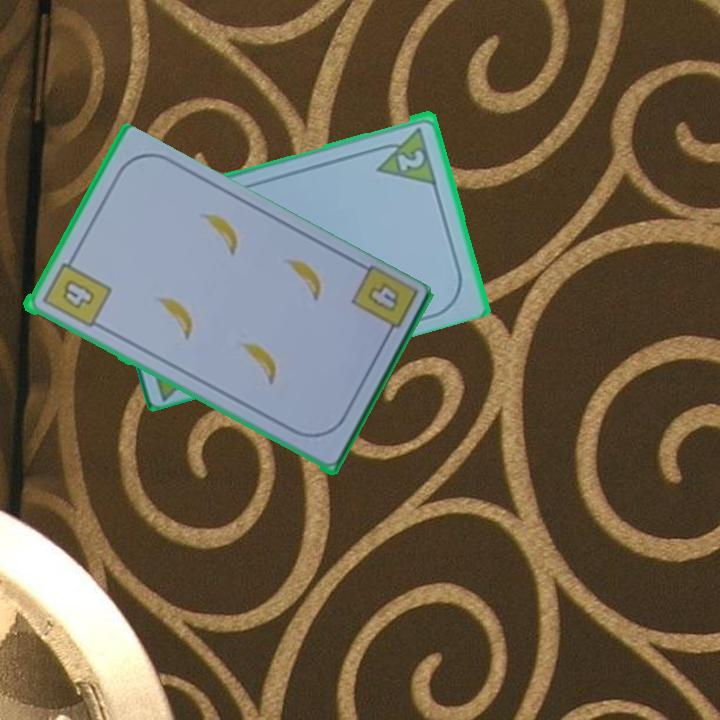2p: (394, 146, 428, 174)
4b: (346, 263, 420, 345), (38, 252, 114, 331)
